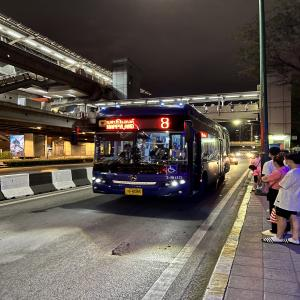Bus Line Number: (156, 114, 175, 130)
Bus Side Number: (164, 174, 184, 180)
Destination Sign: (102, 118, 140, 130)
TSB-Bus: (90, 104, 230, 199)
